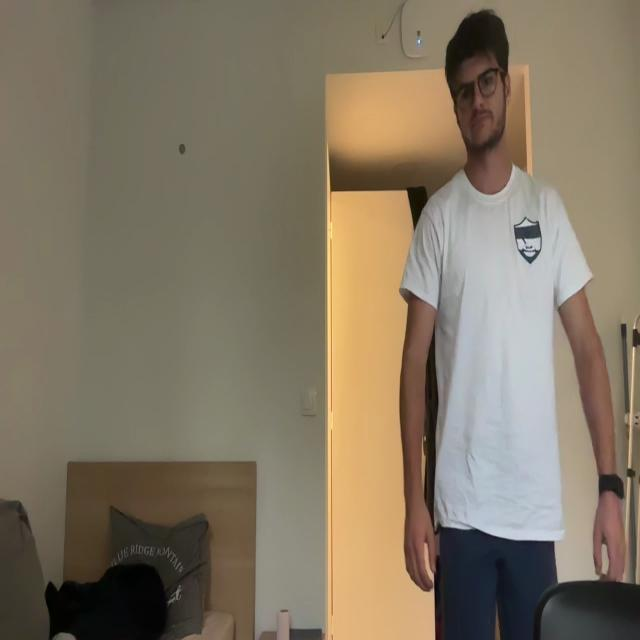elbow: (573, 328, 602, 371), (401, 345, 428, 389)
hand: (402, 500, 438, 592), (593, 486, 626, 581)
shoulder: (415, 200, 446, 271), (547, 180, 571, 249)
